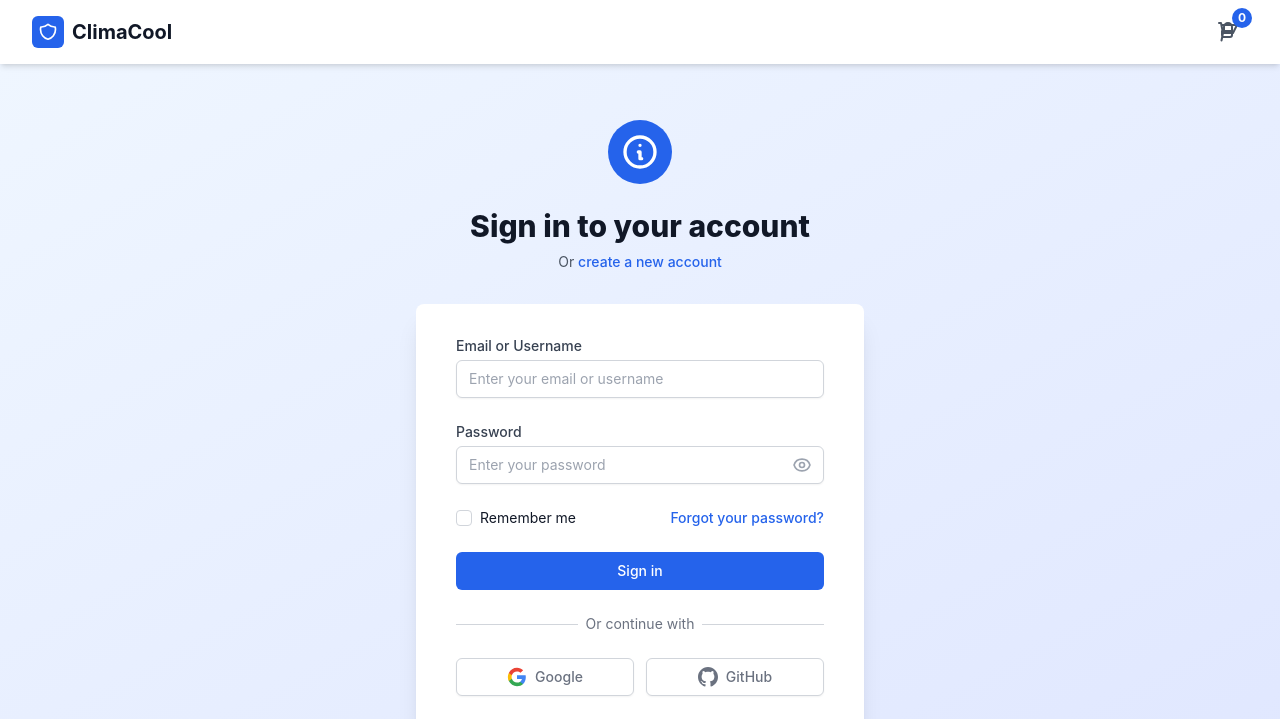
Authentication Tests - Simple › Basic Authentication Flow › should attempt login with test credentials
// Find and fill email field using actual ID
In the field with id "emailOrUsername": coordinates (640, 379) [456, 360, 824, 398], type "test@example.com"
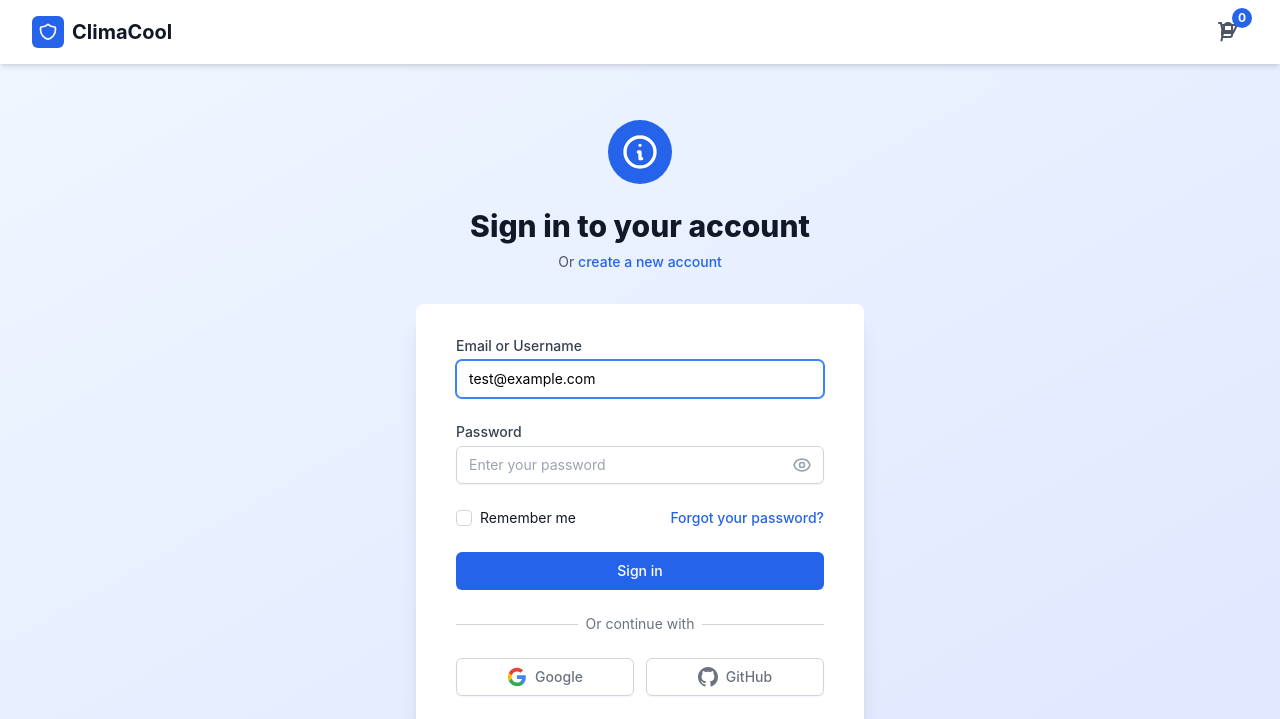
// Find and fill password field using actual ID
In the password field labelled "Password": coordinates (640, 465) [456, 446, 824, 484], type "TestPassword123!"
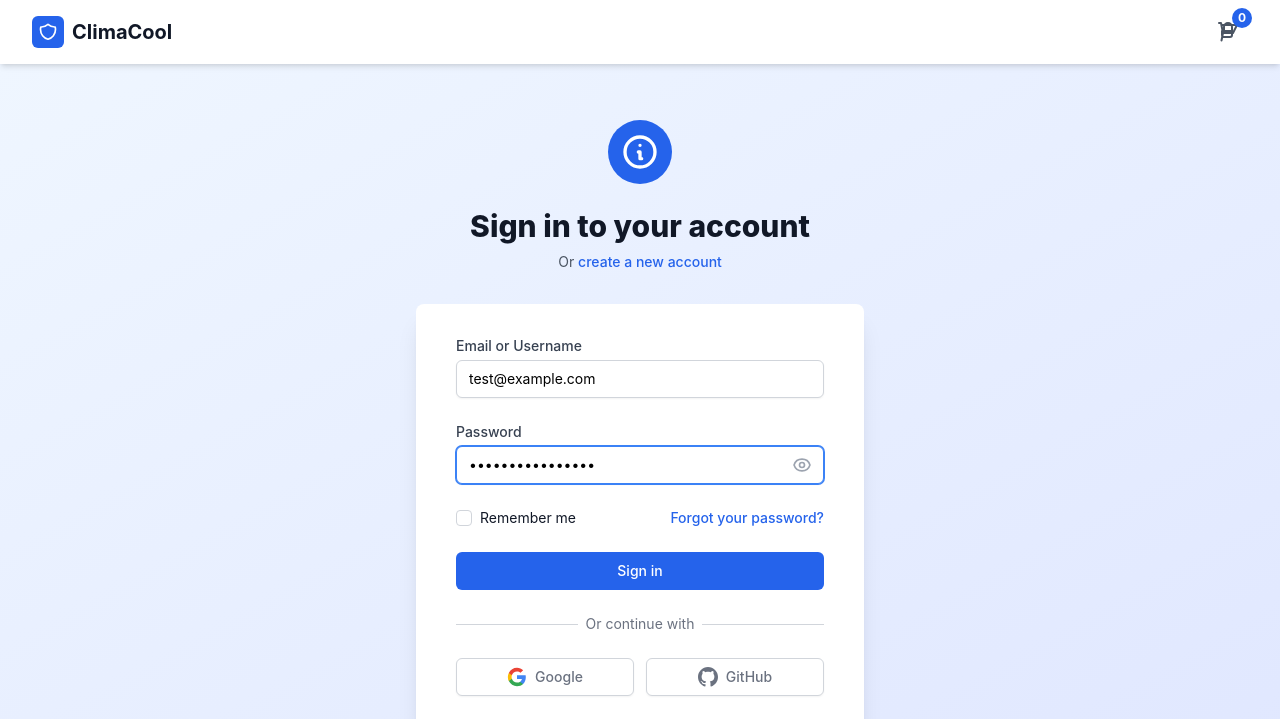
// Submit form
Click the submit button: coordinates (640, 571) [456, 552, 824, 590]
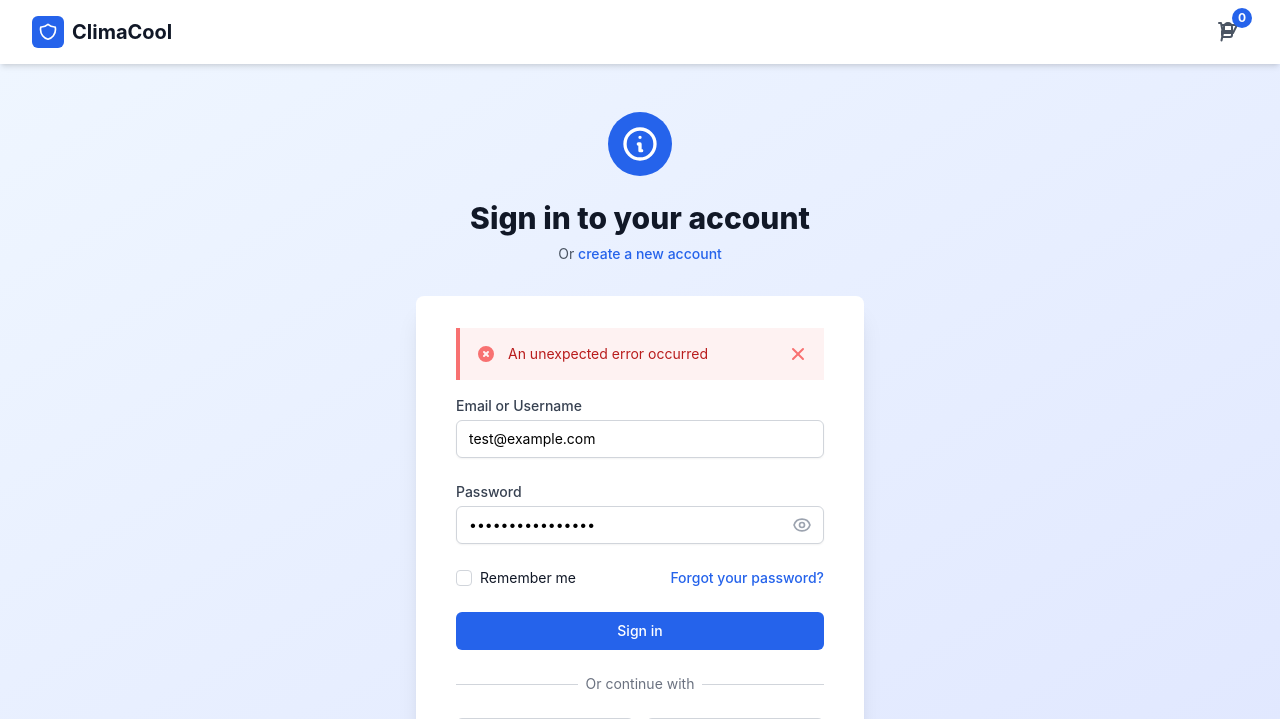
Expected: the text "An unexpected error occurred" is shown, [508, 345, 708, 362]
